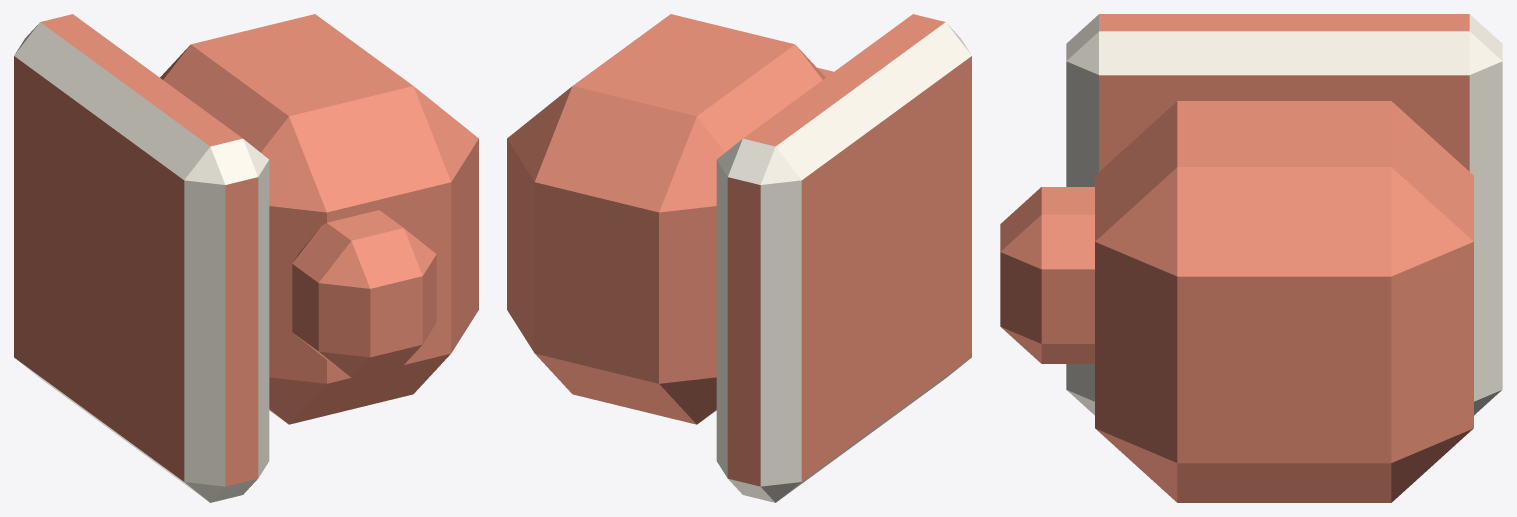
The model's file is mitten.glb.
3 renders of one model, left to right at view 1: azimuth 30°, elevation 25°; view 2: azimuth 150°, elevation 25°; view 3: azimuth 270°, elevation 25°, orthographic. The views are drawn at different scales.
Visible parts, largest first — view 1: Mitten; view 2: Mitten; view 3: Mitten.
Boxes of the visible parts, x1,y1,x2,y2 form: Mitten: [14, 14, 478, 502]; Mitten: [507, 14, 971, 502]; Mitten: [1000, 14, 1502, 502].
Bounding box in the file's own units: 1.01 × 1.04 × 1.22.
